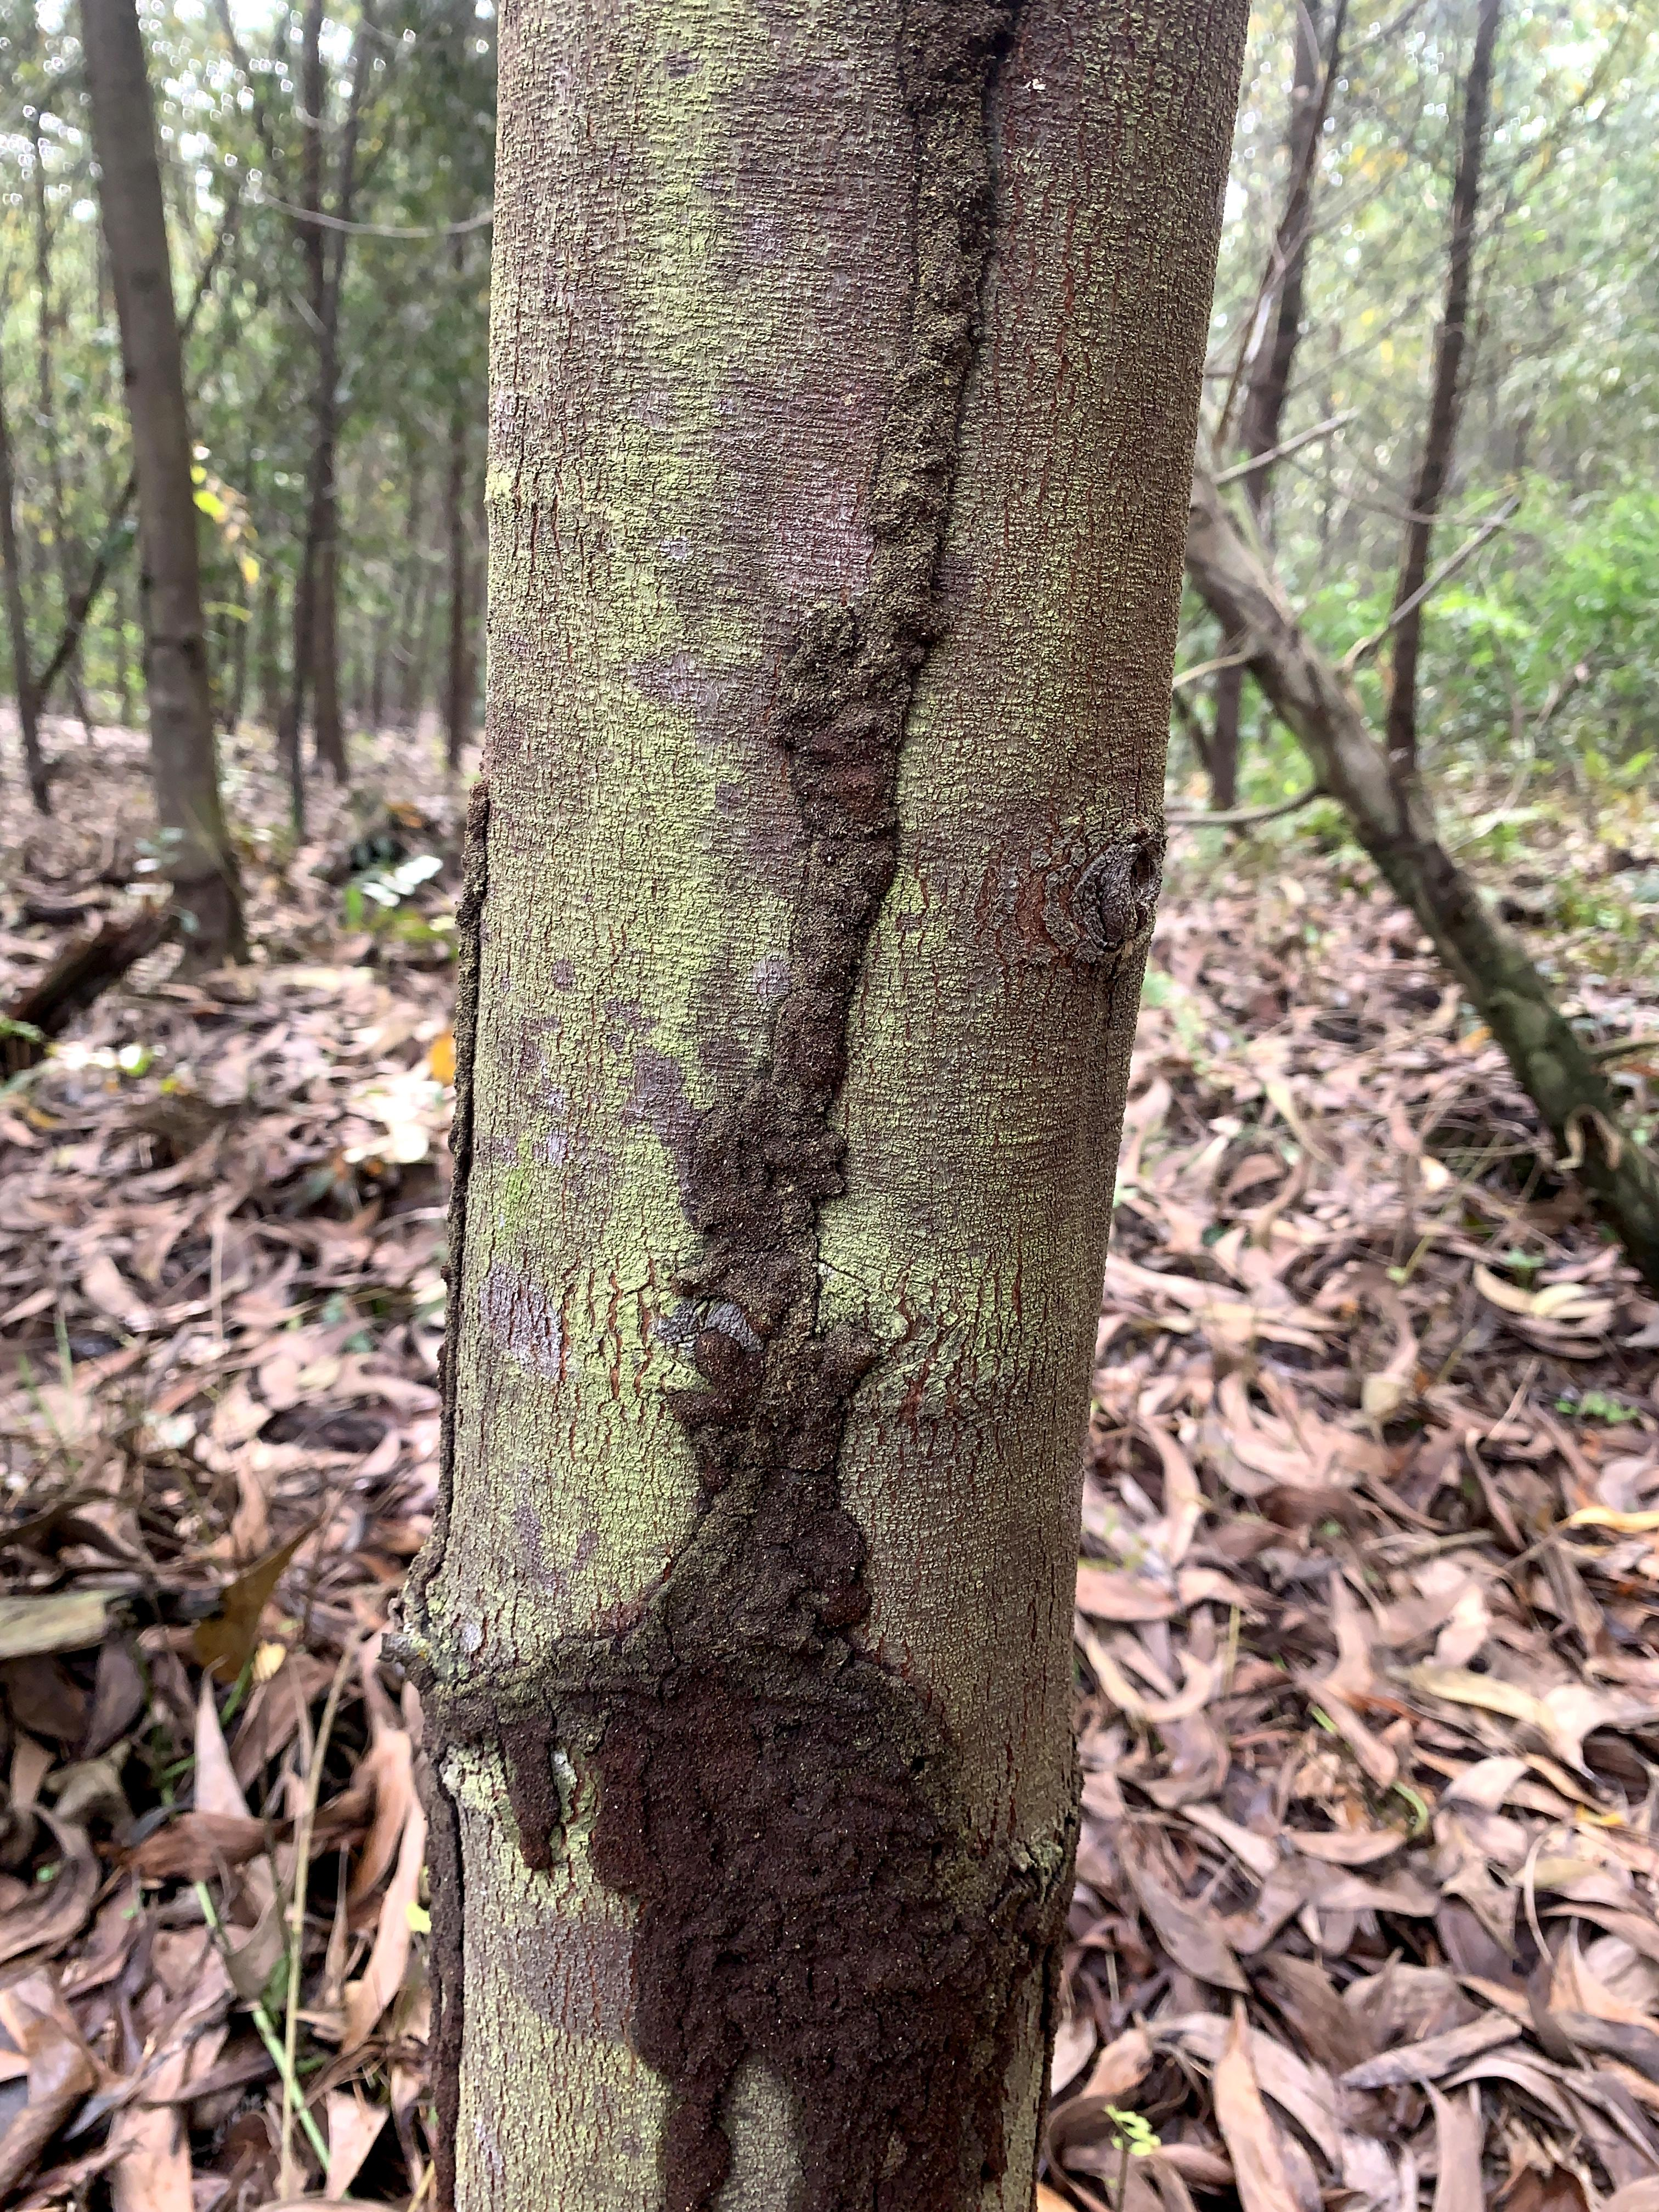Termite - Nest: (504, 23, 1110, 2212)
